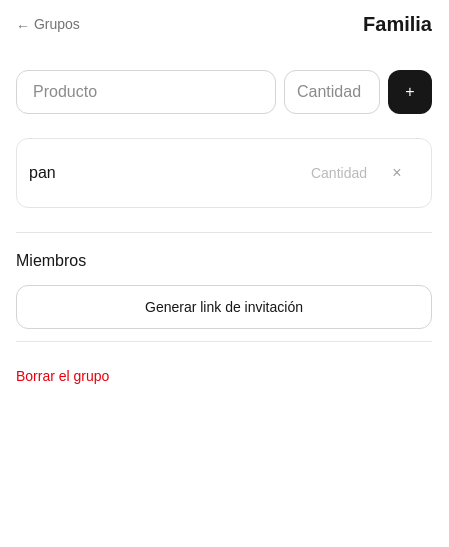
Test: R3 · lo encolado y lo perdido no dicen lo mismo › DoD 13: el alta encolada dice que está guardada; la edición fallida, no
The width and height of the screenshot is (449, 547).
Type "lentejas" into the field with test id "item-name" at (146, 92), box [16,70,276,114]
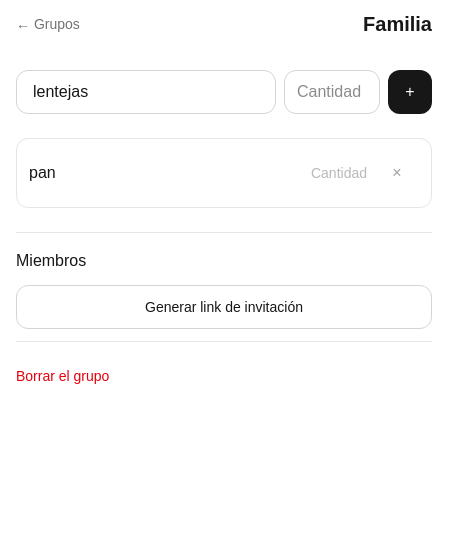
Click the button with test id "add-item" at (410, 92), box [388,70,432,114]
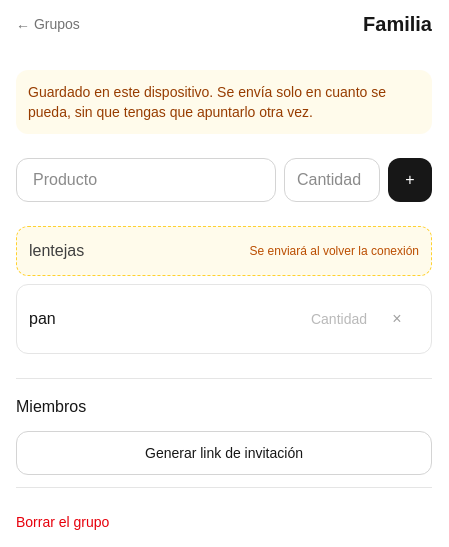
Now the message with test id "notice" shows "Guardado en este dispositivo. Se envía solo en cuanto se pueda, sin que tengas que apuntarlo otra vez.", box [28,84,386,120]
Type "3" into the field named "Cantidad de pan" at (327, 319), box [287,297,367,341]
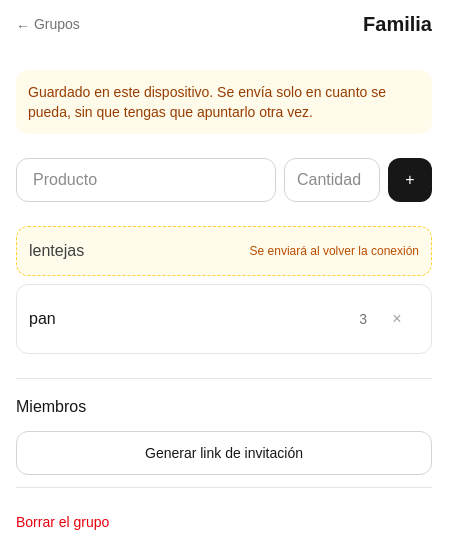
Leave the field named "Cantidad de pan", box [287,297,367,341]
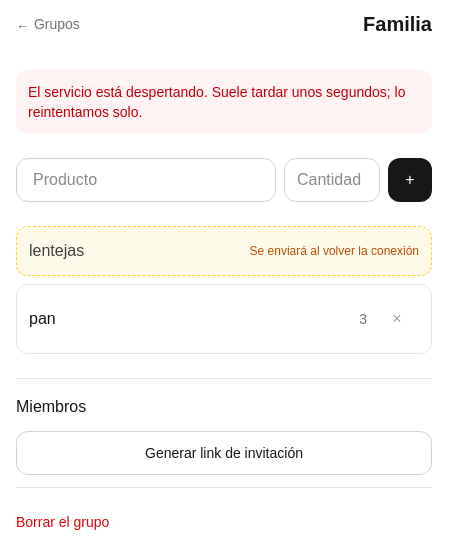
Now the message with test id "notice" reads "El servicio está despertando. Suele tardar unos segundos; lo reintentamos solo.", box [28,84,406,120]
